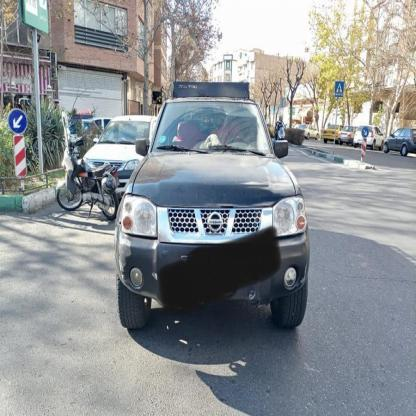Car: (115, 95, 314, 355), (74, 106, 148, 187), (382, 130, 416, 158), (356, 121, 381, 148), (297, 122, 320, 142), (341, 125, 354, 150), (324, 124, 340, 142)
